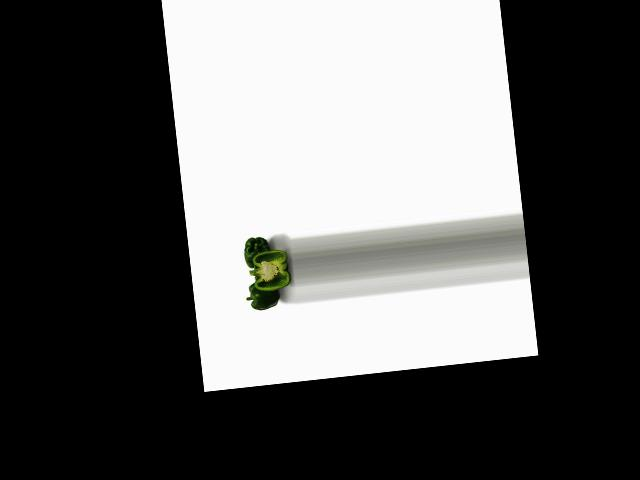bell_pepper: (239, 232, 275, 272)
